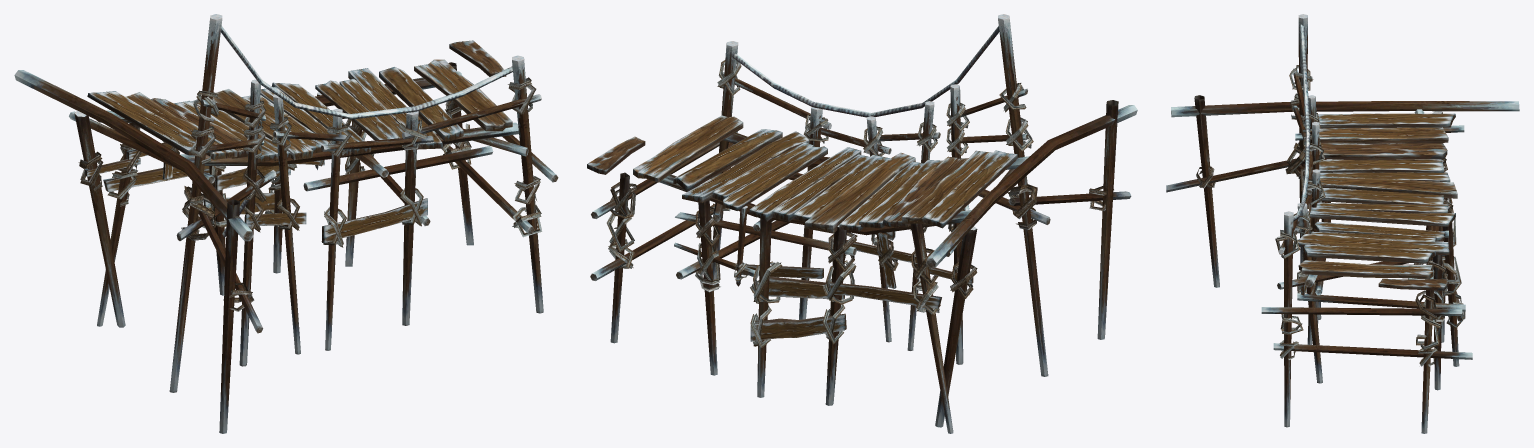
File: snow_qiao_02.fbx
3 views of the same model, side by side, from view 1: azimuth 30°, elevation 25°; view 2: azimuth 150°, elevation 25°; view 3: azimuth 270°, elevation 25° (orthographic). The views are drawn at different scales.
Parts seen in each view (by area): view 1: snow_qiao; view 2: snow_qiao; view 3: snow_qiao.
Boxes of the visible parts, <box> form: snow_qiao: <box>14,14,558,433</box>; snow_qiao: <box>587,14,1137,433</box>; snow_qiao: <box>1166,14,1519,433</box>.
Size of the model in its own units: 2724 by 2308 by 2551.
